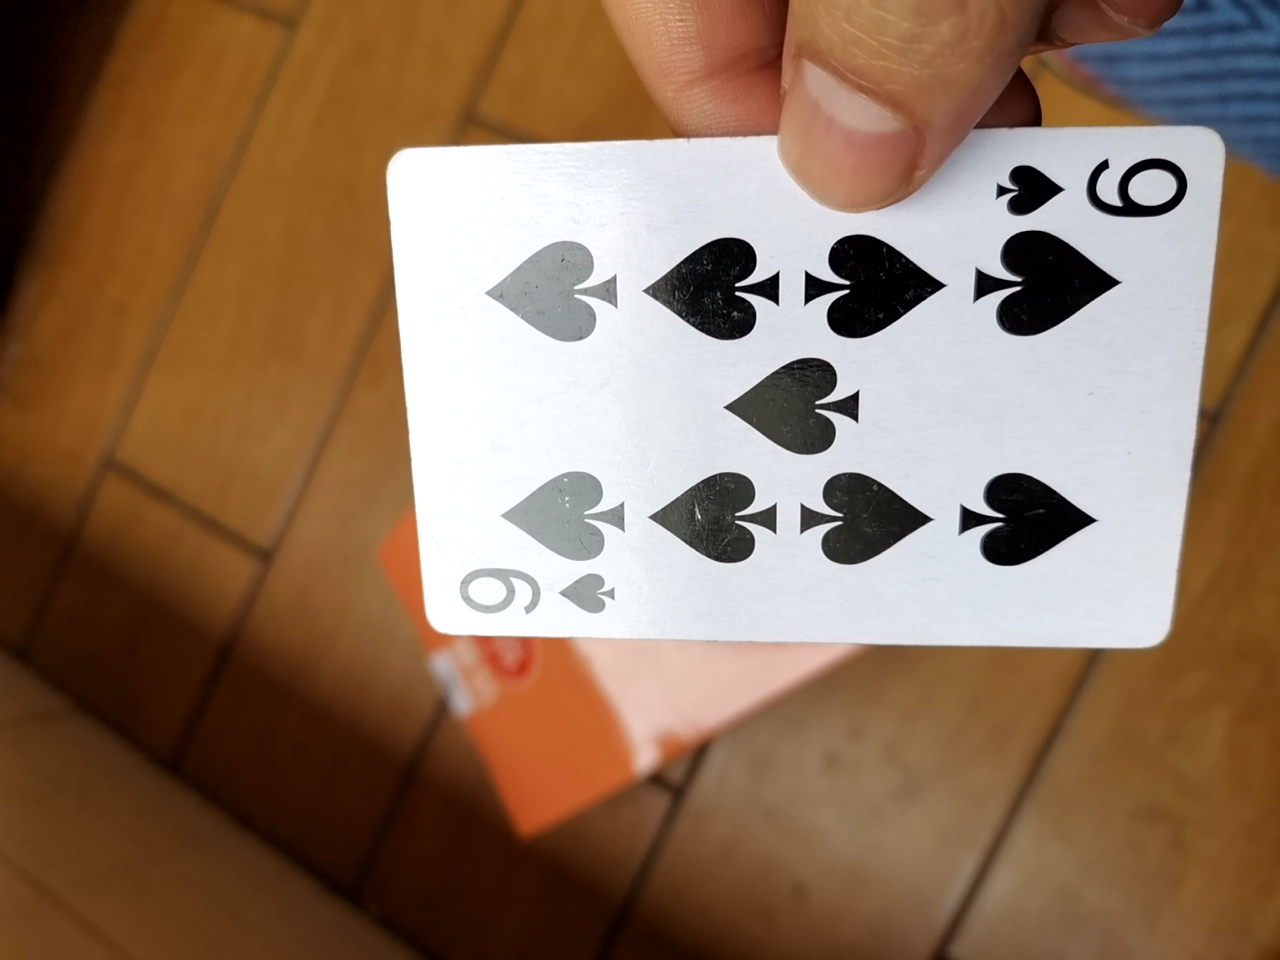ht 9: (368, 128, 1206, 662)
